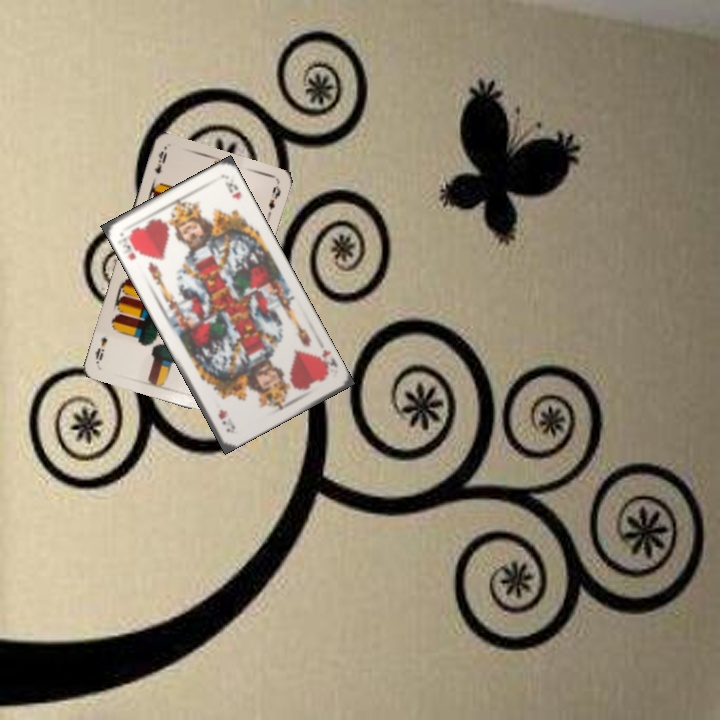E9: (150, 147, 170, 176)
HK: (311, 346, 341, 378), (118, 233, 140, 263)
